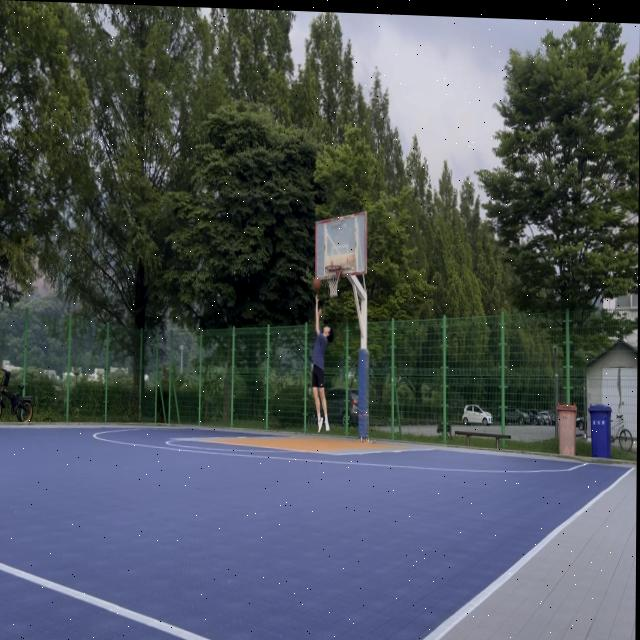basketball: (313, 277, 321, 292)
hoop: (325, 264, 341, 299)
